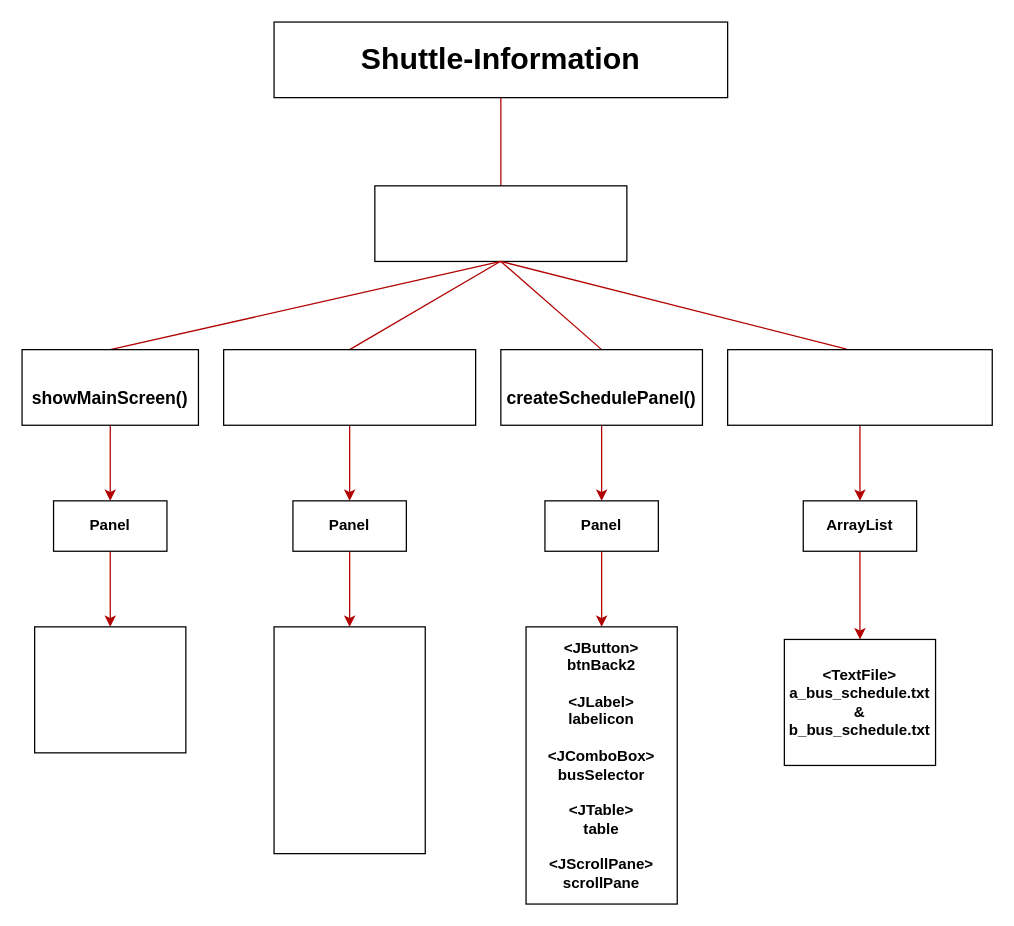
Image size: 1014x926. Some labels were removed from this diagram. Each missing label, with the box of its shape:
<JButton> btnBack1 <JLabel> routeLabel cjubusA cjubusB <Other> Timer: (273, 626, 425, 854)
<JButton> btnCampusShuttle btnInfo: (33, 626, 186, 753)
createCampusShuttlePanel(): (222, 348, 476, 425)
FIrstGui: (374, 185, 627, 261)
loadScheduleFromFile(): (726, 348, 992, 425)
